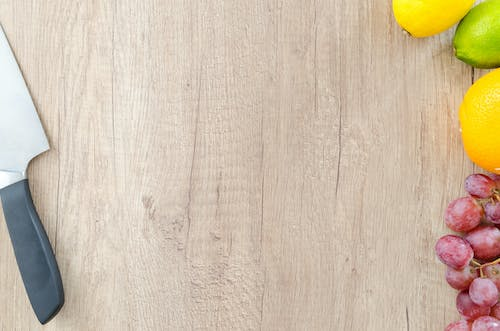knife: (0, 20, 66, 327)
